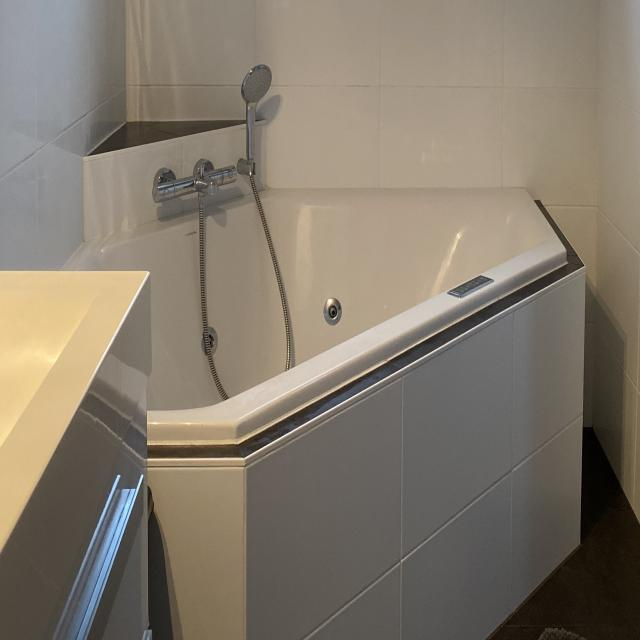bath: (57, 61, 586, 566)
wastafel: (0, 274, 150, 640), (0, 266, 152, 554)
